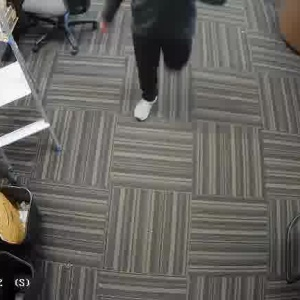person: (125, 0, 205, 122)
